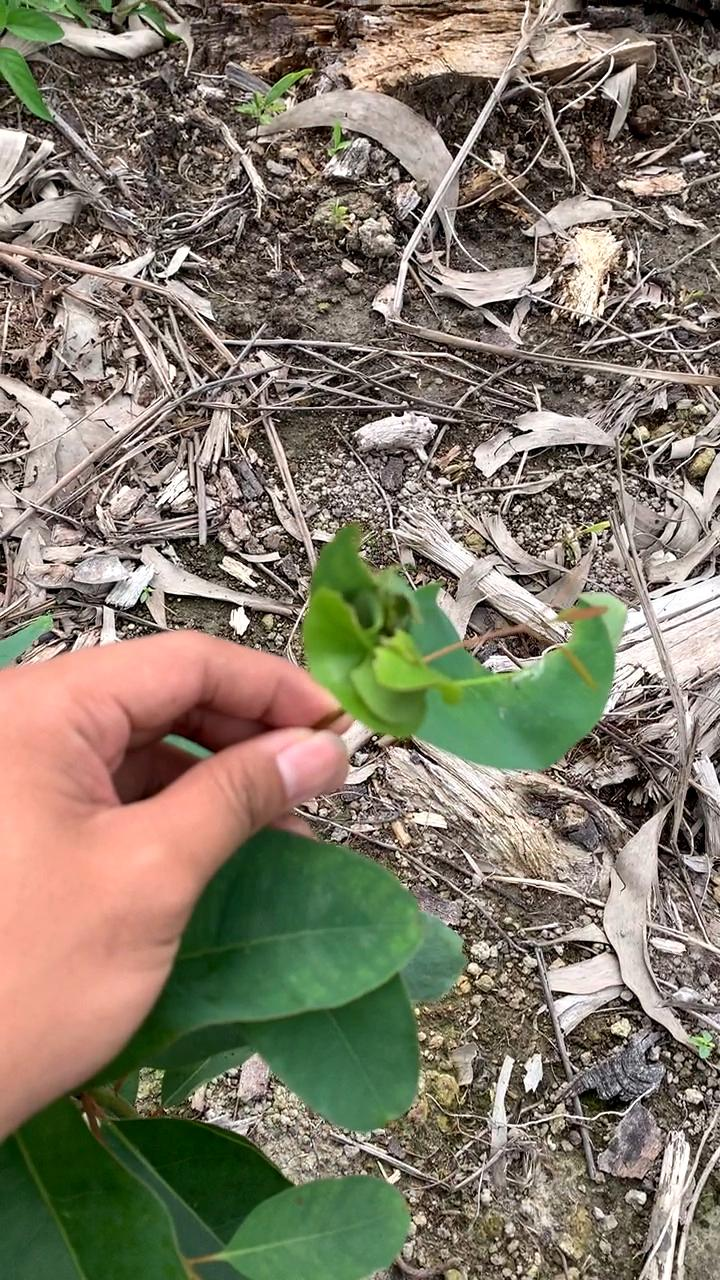Leaf Roller - Leaf: (293, 530, 619, 783)
